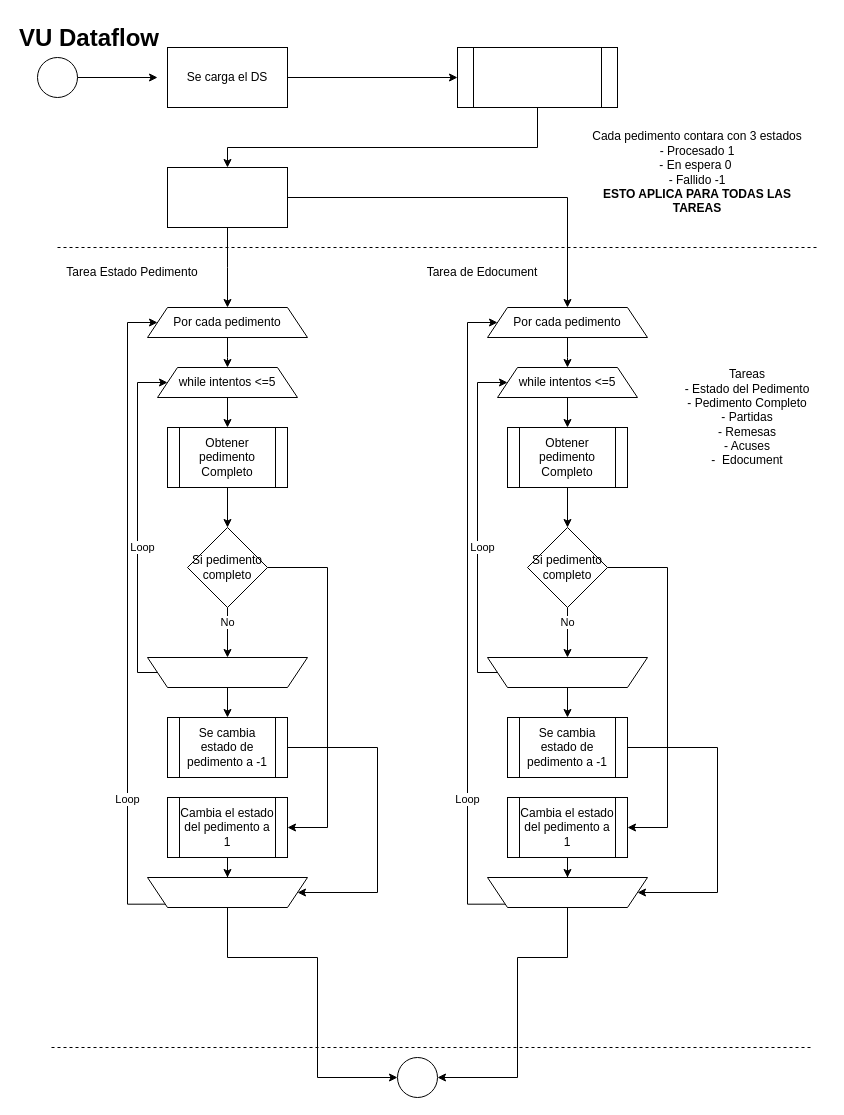
Image size: 844x1115. Some labels were removed from this diagram. Here are the shapes that lost their labels. From the top down, the box of each, then its label:
(36, 56, 78, 98): Inicio
(456, 46, 618, 108): Se obtienen los pedimentos y de divide en sus componentes Registros (500 - 702)
(166, 166, 288, 228): Se obtienen pedimentos con el estado de En espera 0
(396, 1056, 438, 1098): Fin
